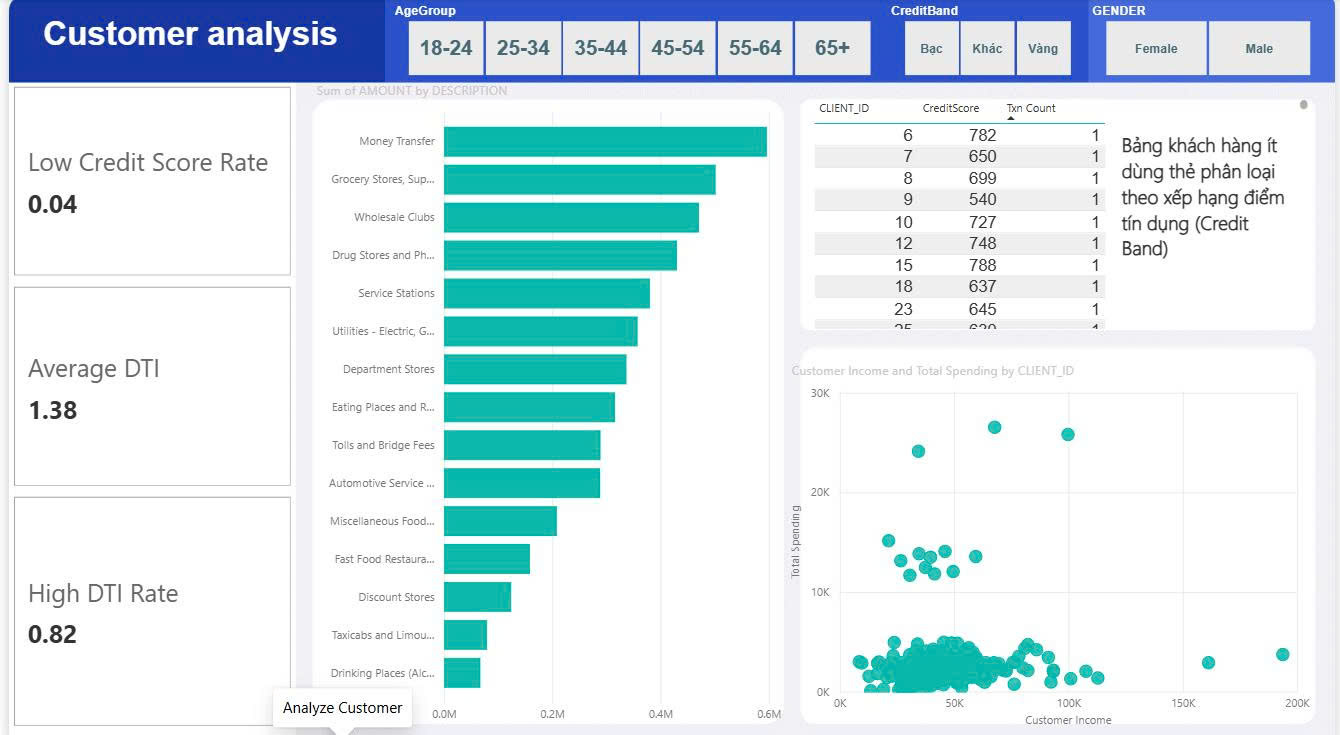

The dashboard page shown, as its layout file describes it:
{"tool":"powerbi","page":{"name":"Analyze Customer","canvas":[1280,720],"ordinal":1},"visuals":[{"type":"textbox","box":[0,12.3,359.5,56.3],"z":0},{"type":"slicer","fields":{"Values":["OVERALL_CUSTOMER.AgeGroup"]},"box":[360,0,495.7,81.4],"z":1000},{"type":"clusteredBarChart","fields":{"Category":["OVERALL_CUSTOMER.DESCRIPTION"],"Y":["Sum(OVERALL_CUSTOMER.AMOUNT)"]},"box":[291.4,81.4,458.6,627.1],"z":2000},{"type":"slicer","fields":{"Values":["OVERALL_CUSTOMER.GENDER"]},"box":[1032.9,0,247.1,81.4],"z":3000},{"type":"cardVisual","fields":{"Data":["OVERALL_CUSTOMER.Low Credit Score Rate"]},"box":[0,81.4,277.1,192.9],"z":4000},{"type":"cardVisual","fields":{"Data":["OVERALL_CUSTOMER.Average DTI"]},"box":[0,274.3,277.1,202.9],"z":5000},{"type":"cardVisual","fields":{"Data":["OVERALL_CUSTOMER.High DTI Rate"]},"box":[0,477.1,277.1,231.4],"z":6000},{"type":"scatterChart","fields":{"Category":["OVERALL_CUSTOMER.CLIENT_ID"],"Y":["OVERALL_CUSTOMER.Total Spending"],"X":["OVERALL_CUSTOMER.Customer Income"]},"box":[750,351.4,510,357.1],"z":7000},{"type":"tableEx","fields":{"Values":["DimCustomer.CLIENT_ID","DimCustomer.CreditScore","DimCustomer.Txn Count"]},"box":[771.4,92.9,488.6,231.4],"z":7001},{"type":"slicer","fields":{"Values":["DimCustomer.CreditBand"]},"box":[838.6,0,210,81.4],"z":7002},{"type":"textbox","box":[1068.6,124.3,177.1,190],"z":7003}]}

Visuals, with their boxes in screenshot pixels (x1, y1, x2, y2), scaled from the page's 1280x720 canvas onto the 1340x735 screenshot:
textbox: [left=0, top=13, right=376, bottom=70]
slicer - OVERALL_CUSTOMER.AgeGroup: [left=377, top=0, right=896, bottom=83]
clusteredBarChart - OVERALL_CUSTOMER.DESCRIPTION x Sum(OVERALL_CUSTOMER.AMOUNT): [left=305, top=83, right=785, bottom=723]
slicer - OVERALL_CUSTOMER.GENDER: [left=1081, top=0, right=1339, bottom=83]
cardVisual - OVERALL_CUSTOMER.Low Credit Score Rate: [left=0, top=83, right=290, bottom=280]
cardVisual - OVERALL_CUSTOMER.Average DTI: [left=0, top=280, right=290, bottom=487]
cardVisual - OVERALL_CUSTOMER.High DTI Rate: [left=0, top=487, right=290, bottom=723]
scatterChart - OVERALL_CUSTOMER.CLIENT_ID x OVERALL_CUSTOMER.Total Spending: [left=785, top=359, right=1319, bottom=723]
tableEx - DimCustomer.CLIENT_ID x DimCustomer.CreditScore: [left=808, top=95, right=1319, bottom=331]
slicer - DimCustomer.CreditBand: [left=878, top=0, right=1098, bottom=83]
textbox: [left=1119, top=127, right=1304, bottom=321]
